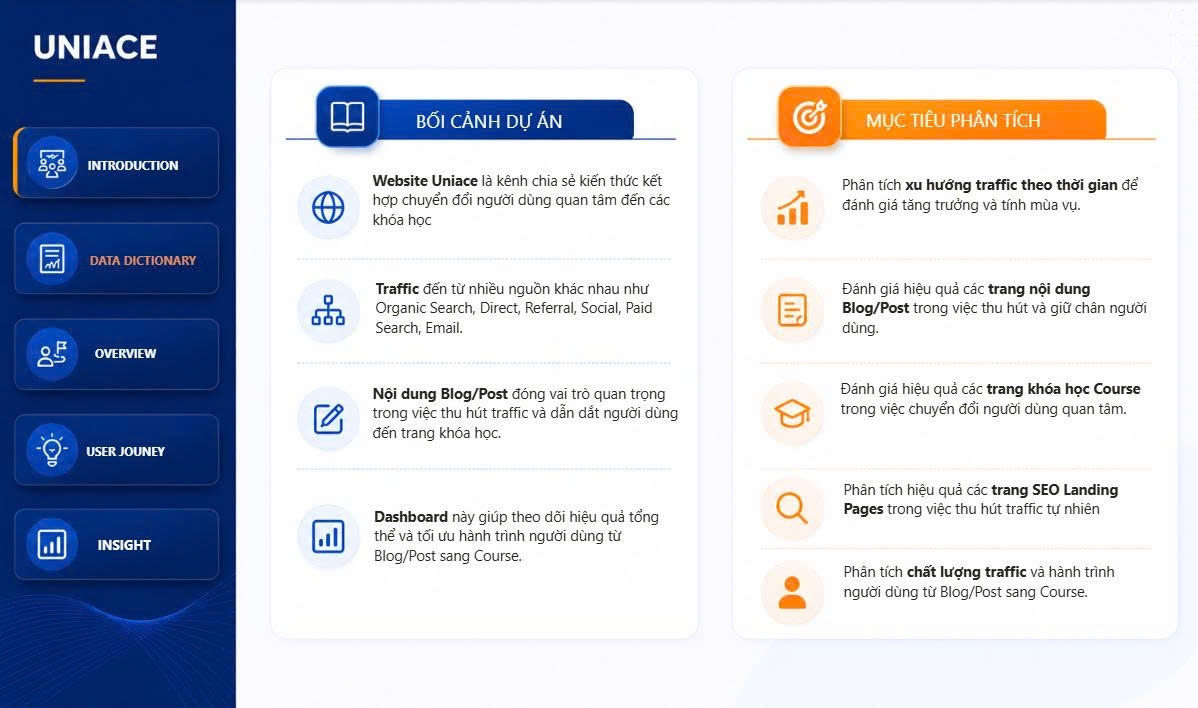

This screenshot's page, from the dashboard's own definition file:
{"tool":"powerbi","page":{"name":"Introduction","canvas":[1280,720],"ordinal":0},"visuals":[{"type":"actionButton","box":[76,320,102,78],"z":0},{"type":"actionButton","box":[76,420,102,76],"z":1000},{"type":"actionButton","box":[84,132,102,74],"z":2000},{"type":"textbox","box":[414.3,105.7,225.7,62.9],"z":3000},{"type":"textbox","box":[868.6,105.7,231.4,62.9],"z":4000},{"type":"textbox","box":[371.4,168.6,321.4,82.9],"z":5000},{"type":"textbox","box":[374.3,277.1,321.4,98.6],"z":6000},{"type":"textbox","box":[371.4,382.9,321.4,107.1],"z":7000},{"type":"textbox","box":[844.3,172.9,321.4,74.3],"z":8000},{"type":"textbox","box":[844.3,277.1,321.4,98.6],"z":9000},{"type":"textbox","box":[843.3,378.6,321.4,82.9],"z":10000},{"type":"textbox","box":[372.9,507.1,321.4,97.1],"z":11000},{"type":"textbox","box":[845.7,480,321.4,68.6],"z":12000},{"type":"textbox","box":[847.1,562.9,321.4,82.9],"z":13000},{"type":"actionButton","box":[76,532,100,40],"z":14000},{"type":"actionButton","box":[84,246,122,38],"z":15000}]}

Visuals, with their boxes on the page's 1280x720 design canvas (x1, y1, x2, y2). These are canvas units, not pixel positions in the 1198x708 screenshot, which may show the page scaled, cropped or inside an application window:
actionButton: 76:320:178:398
actionButton: 76:420:178:496
actionButton: 84:132:186:206
textbox: 414:106:640:169
textbox: 869:106:1100:169
textbox: 371:169:693:252
textbox: 374:277:696:376
textbox: 371:383:693:490
textbox: 844:173:1166:247
textbox: 844:277:1166:376
textbox: 843:379:1165:462
textbox: 373:507:694:604
textbox: 846:480:1167:549
textbox: 847:563:1168:646
actionButton: 76:532:176:572
actionButton: 84:246:206:284
